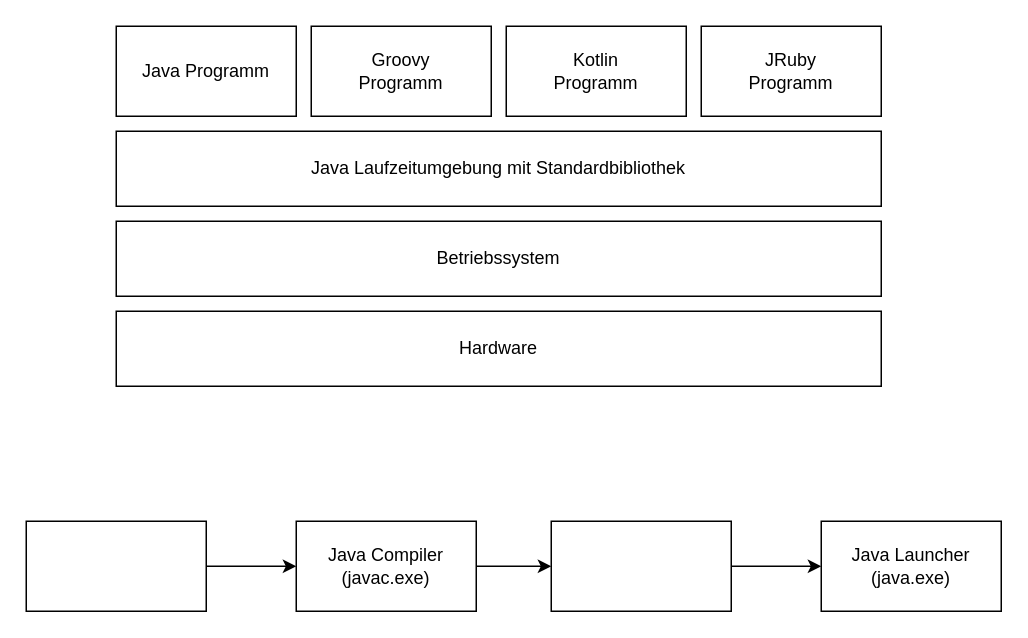
Image size: 1028x638. Some labels were removed from this diagram. Here are the shapes that lost their labels. From the top down, the centre of each, then its label:
(115,565): Java Quelltext (.java Datei)
(640,565): Bytecode (.class)
